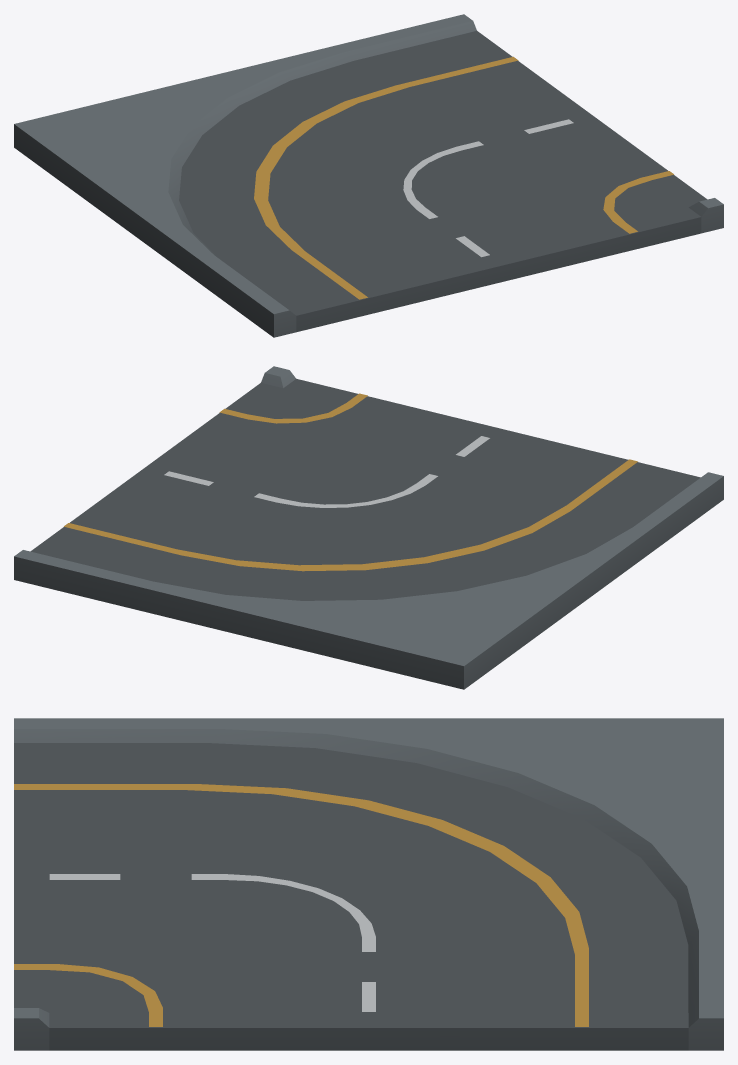
The model's file is city-road-corner-curved.glb.
3 renders of one model, top to bottom at view 1: azimuth 30°, elevation 25°; view 2: azimuth 150°, elevation 25°; view 3: azimuth 270°, elevation 25°, orthographic. The views are drawn at different scales.
Visible parts, largest first — view 1: road_corner_curved; view 2: road_corner_curved; view 3: road_corner_curved.
Boxes of the visible parts, <box> form: road_corner_curved: <box>14,14,723,337</box>; road_corner_curved: <box>14,366,723,689</box>; road_corner_curved: <box>14,718,723,1050</box>.
Size of the model in its own units: 2 by 0.1 by 2.
